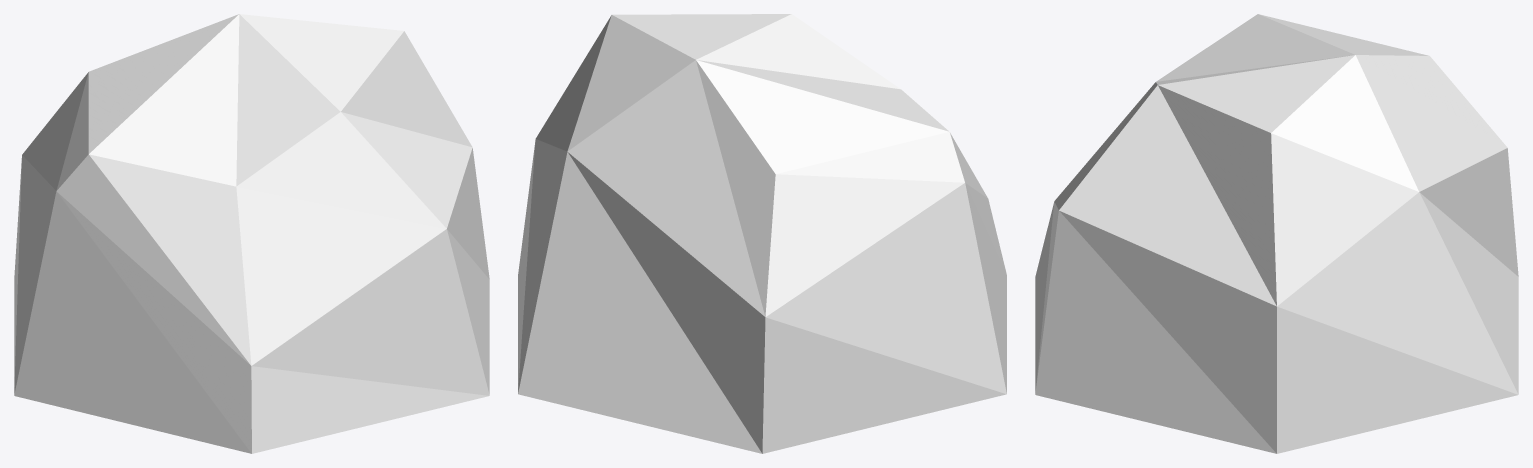
The model's file is Rock_White_1.fbx.
3 views of the same model, side by side, from view 1: azimuth 30°, elevation 25°; view 2: azimuth 150°, elevation 25°; view 3: azimuth 270°, elevation 25° (orthographic). The views are drawn at different scales.
Visible parts, largest first — view 1: Rock_White_1; view 2: Rock_White_1; view 3: Rock_White_1.
Part boxes in pixels (x1,y1,x2,y2): Rock_White_1: (14,14,489,453); Rock_White_1: (518,14,1006,453); Rock_White_1: (1035,14,1518,453).
Size of the model in its own units: 2 by 1.16 by 1.73.
